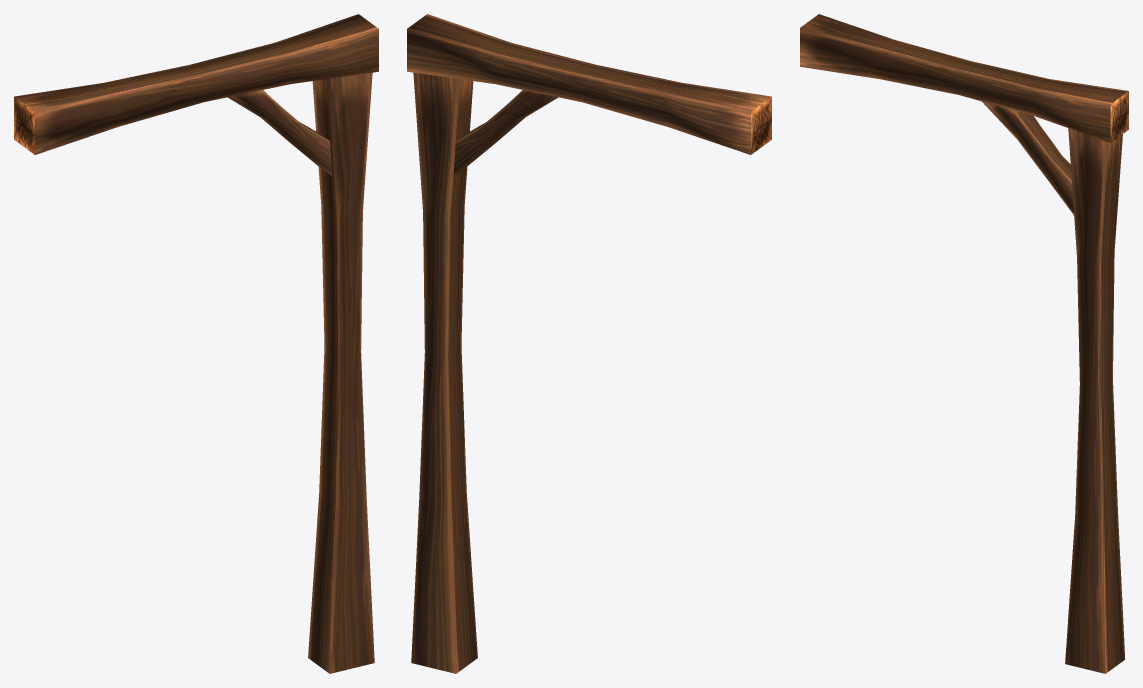
The model's file is INST_HTOWN_ROPESUPPORT.fbx.
3 views of the same model, side by side, from view 1: azimuth 30°, elevation 25°; view 2: azimuth 150°, elevation 25°; view 3: azimuth 330°, elevation 25° (orthographic). The views are drawn at different scales.
Visible parts, largest first — view 1: INST_HTOWN_ROPESUPPORT; view 2: INST_HTOWN_ROPESUPPORT; view 3: INST_HTOWN_ROPESUPPORT.
Boxes of the visible parts, box(x1,y1,x2,y2) form: INST_HTOWN_ROPESUPPORT: box(14, 14, 378, 673); INST_HTOWN_ROPESUPPORT: box(407, 14, 771, 673); INST_HTOWN_ROPESUPPORT: box(800, 14, 1128, 673).
Bounding box in the file's own units: 25923 × 45609 × 2844.
Materials: 1 (1 with a texture image).
